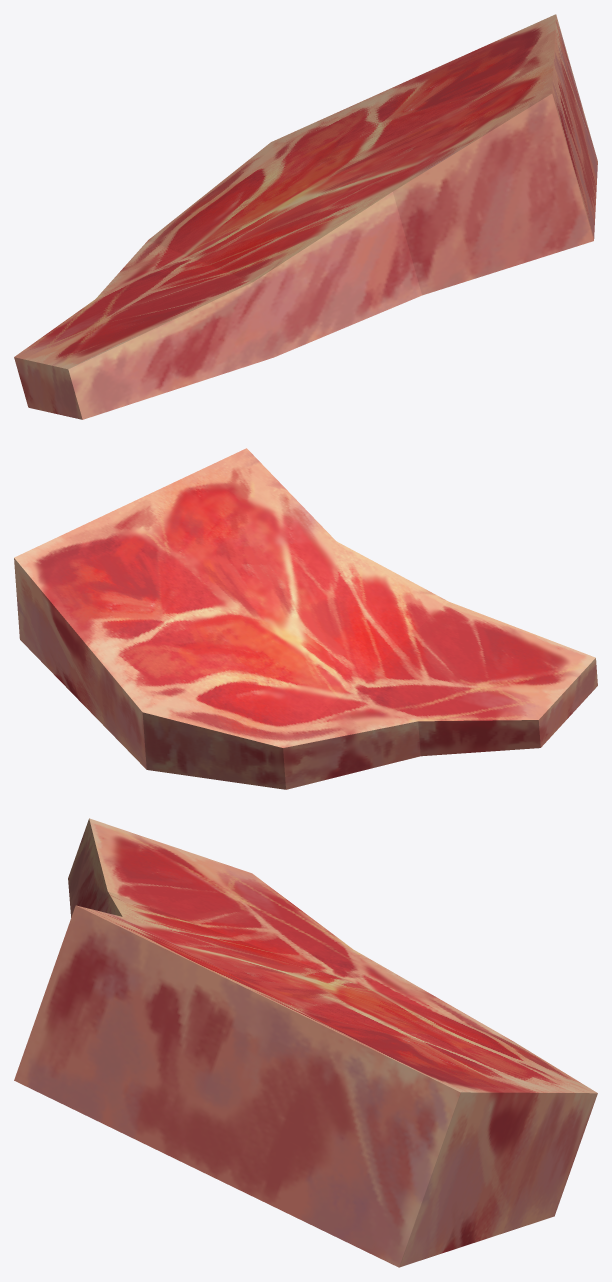
Rendered from 01_meat_piece_01.obj.
3 renders of one model, top to bottom at view 1: azimuth 30°, elevation 25°; view 2: azimuth 150°, elevation 25°; view 3: azimuth 270°, elevation 25°, orthographic. The views are drawn at different scales.
Parts seen in each view (by area): view 1: 01_meat_piece_01; view 2: 01_meat_piece_01; view 3: 01_meat_piece_01.
Part boxes in pixels (left/top/right/bottom): 01_meat_piece_01: left=14, top=14, right=597, bottom=419; 01_meat_piece_01: left=14, top=448, right=597, bottom=789; 01_meat_piece_01: left=14, top=818, right=597, bottom=1267.
Bounding box in the file's own units: 1.47 × 0.6193 × 0.9168.
Materials: 1 (1 with a texture image).
